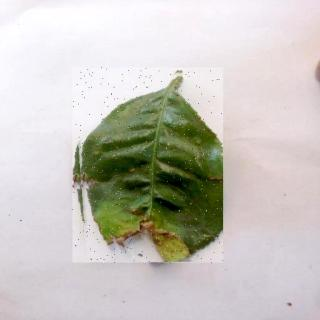Algal Leaf: (74, 69, 224, 265)
